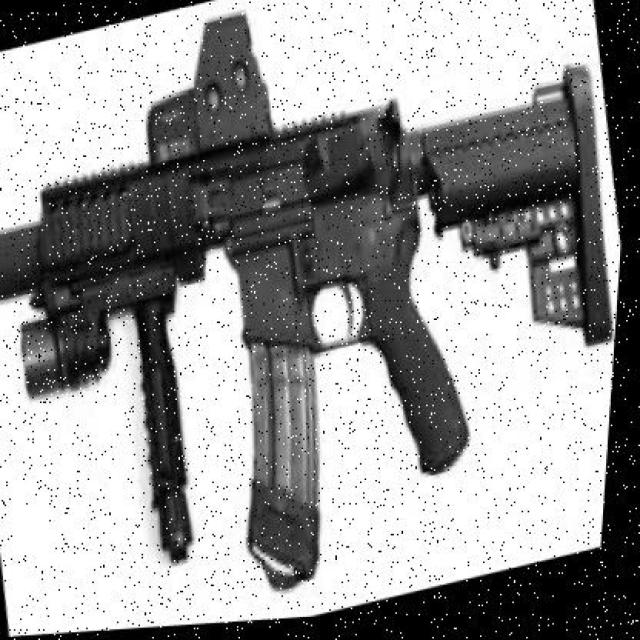weapon: (0, 16, 614, 593)
